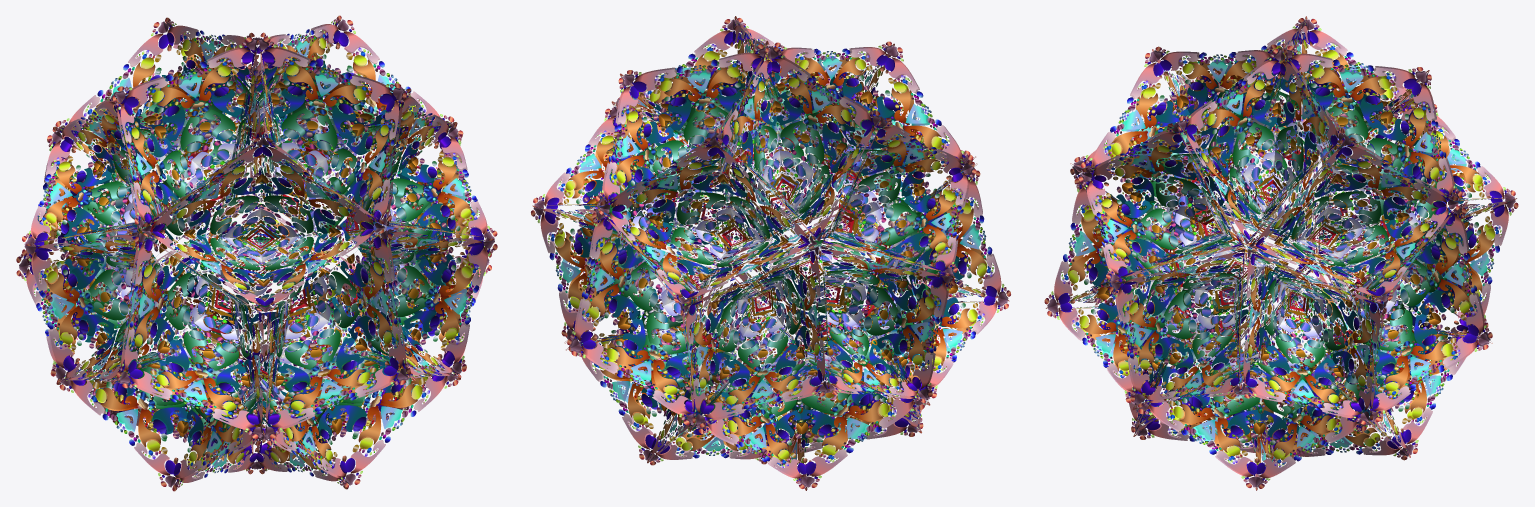
Rendered from Mobius120b.obj.
3 views of the same model, side by side, from view 1: azimuth 30°, elevation 25°; view 2: azimuth 150°, elevation 25°; view 3: azimuth 270°, elevation 25° (orthographic). The views are drawn at different scales.
Bounding box in the file's own units: 3.09 × 3.02 × 3.11.
1 material, 1 textured.
